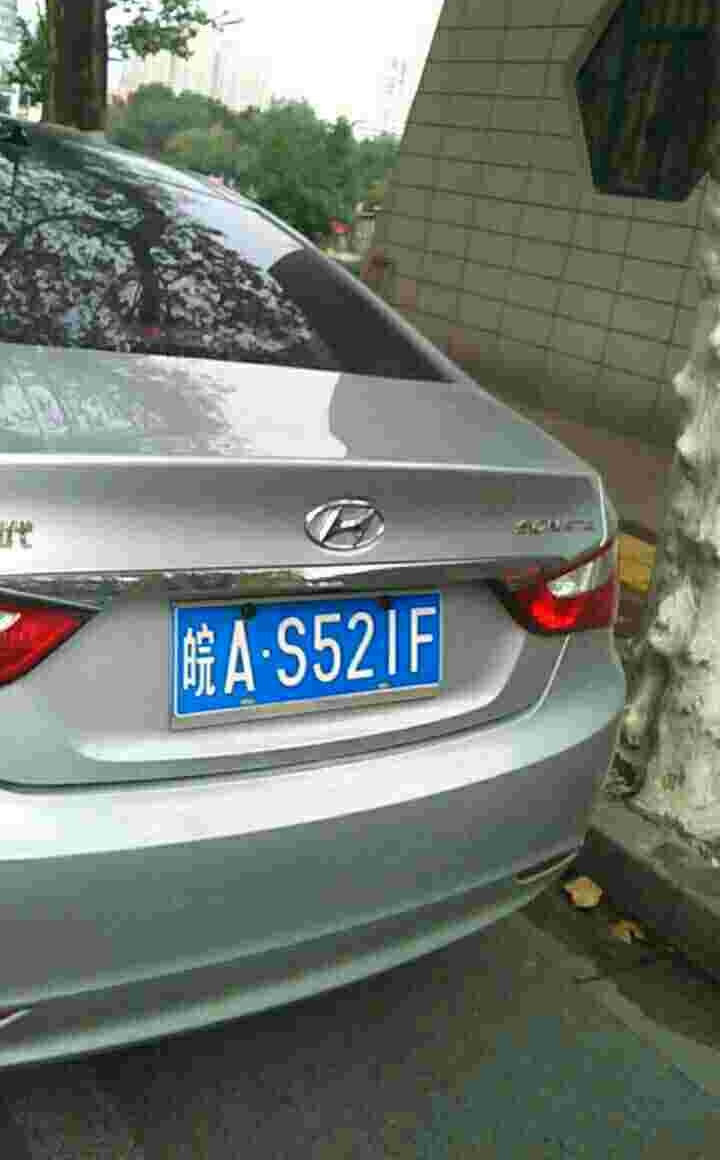license_plate: (179, 602, 447, 700)
